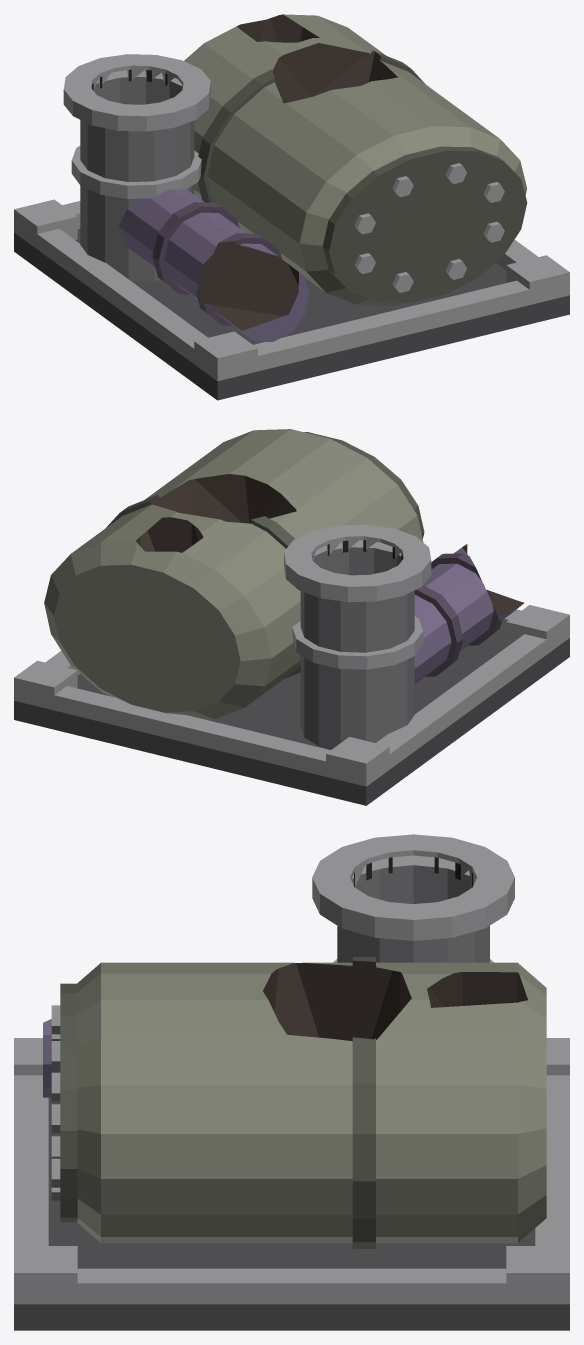
Rendered from vge_d_astrofuelgenerator.obj.
3 views of the same model, one above another, from view 1: azimuth 30°, elevation 25°; view 2: azimuth 150°, elevation 25°; view 3: azimuth 270°, elevation 25° (orthographic). The views are drawn at different scales.
Visible parts, largest first — view 1: vge_d_astrofuelgenerator; view 2: vge_d_astrofuelgenerator; view 3: vge_d_astrofuelgenerator.
Part boxes in pixels (left/top/right/bottom): vge_d_astrofuelgenerator: left=14, top=14, right=569, bottom=400; vge_d_astrofuelgenerator: left=14, top=429, right=569, bottom=805; vge_d_astrofuelgenerator: left=14, top=834, right=569, bottom=1330.
Size of the model in its own units: 1.92 by 1 by 1.92.
